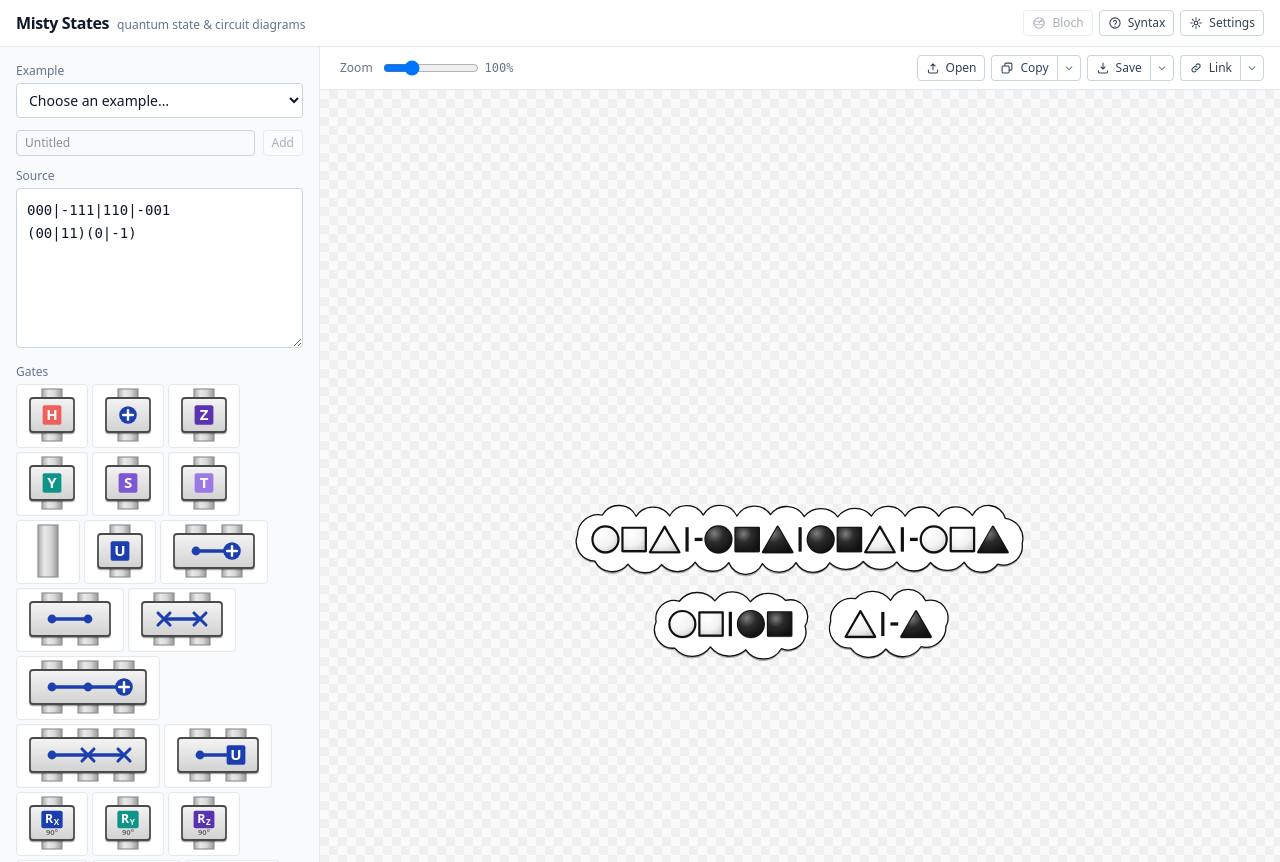
Test case: the correctness badge › says so quietly when an equation holds
Replace the text in the text box labelled "Source" with "00|01 = 0(0|1)" at (160, 268), box left=16, top=188, right=303, bottom=348
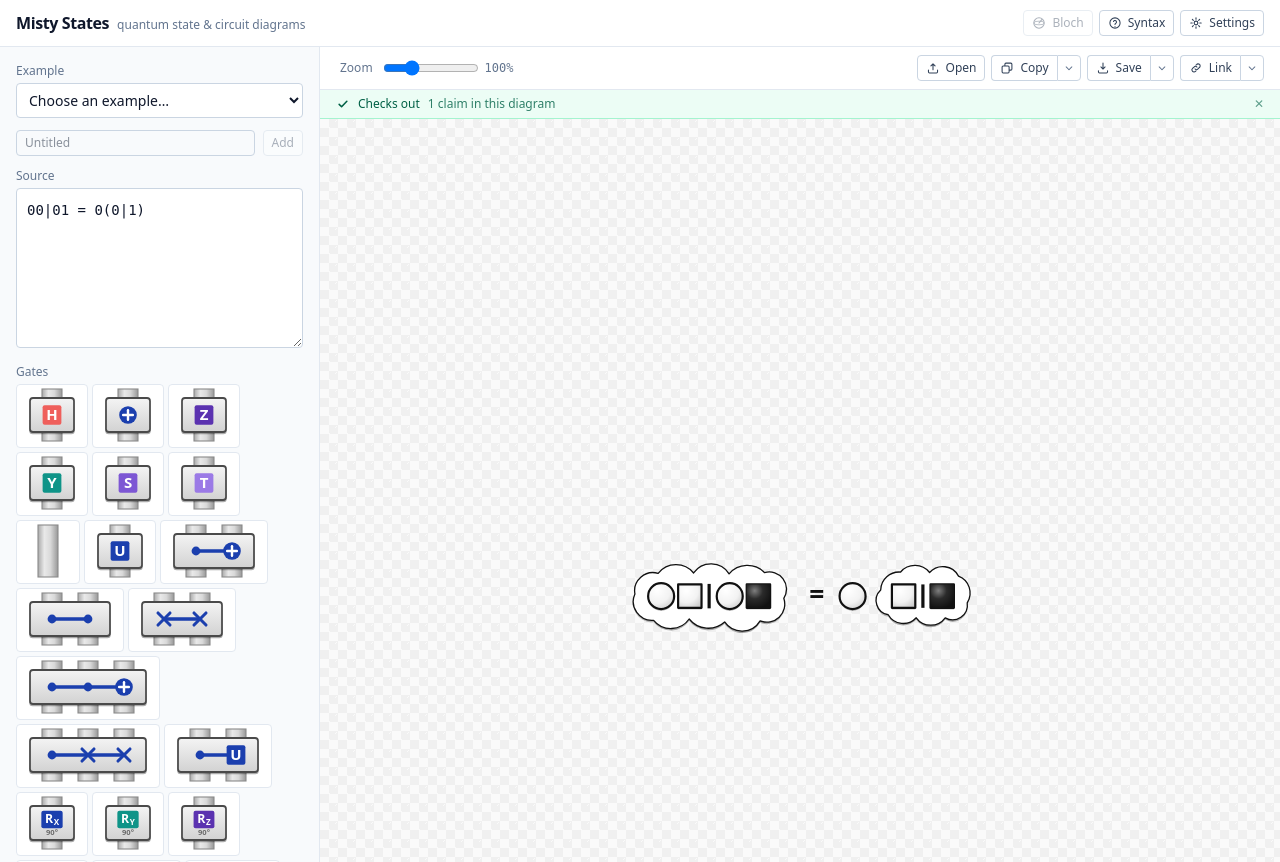
Expected: the message "Checks out 1 claim in this diagram ✕" is shown, left=320, top=90, right=1279, bottom=119
